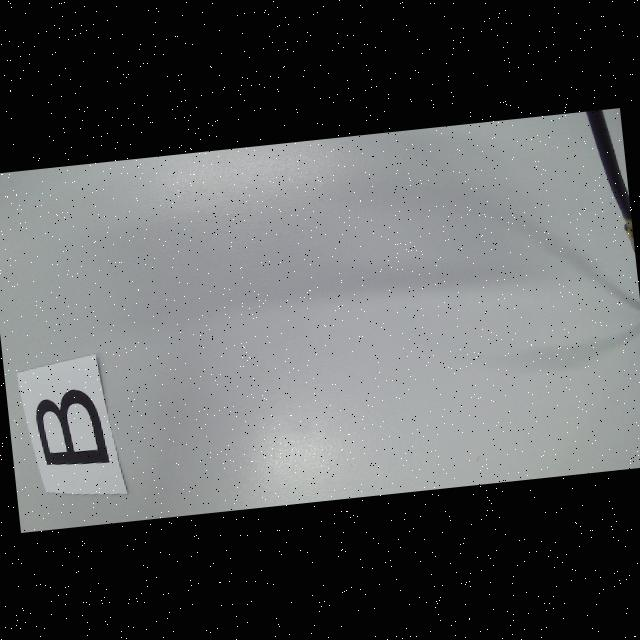FAKE: (32, 386, 110, 470)
